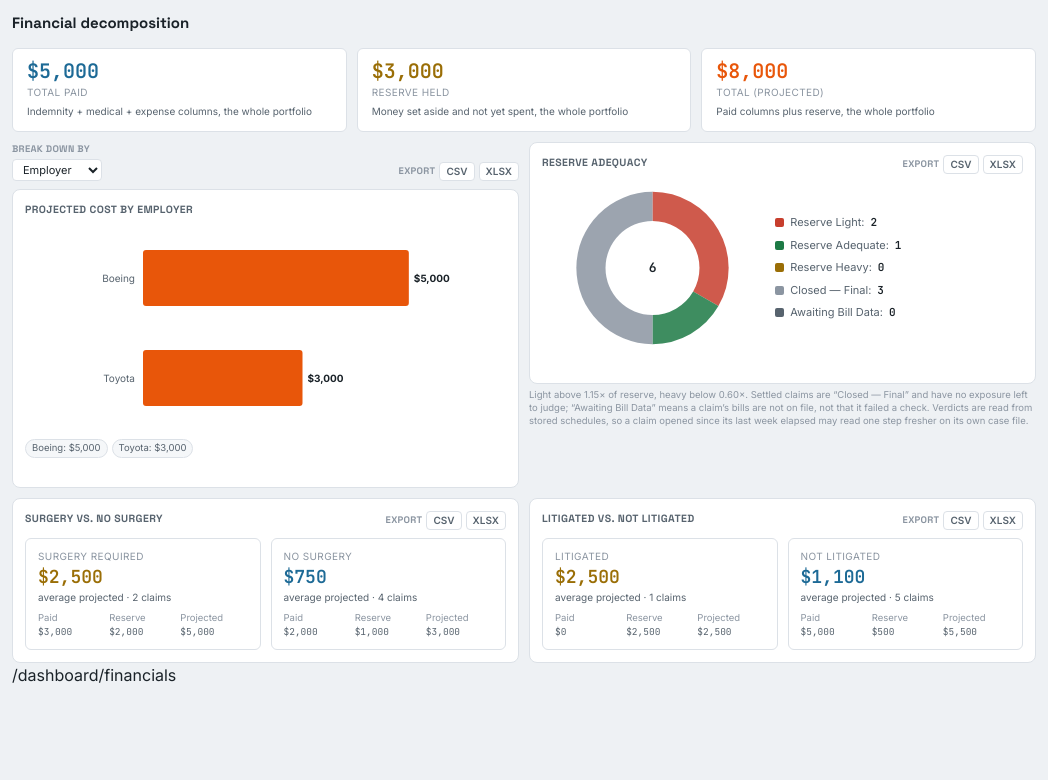
it: changing the grouping writes the URL and refetches rather than regrouping
The image size is (1048, 780).
Step 1. Select "ICD-10" in the dropdown with test id "financial-group-by" → (57, 170), box [12,159,102,181]
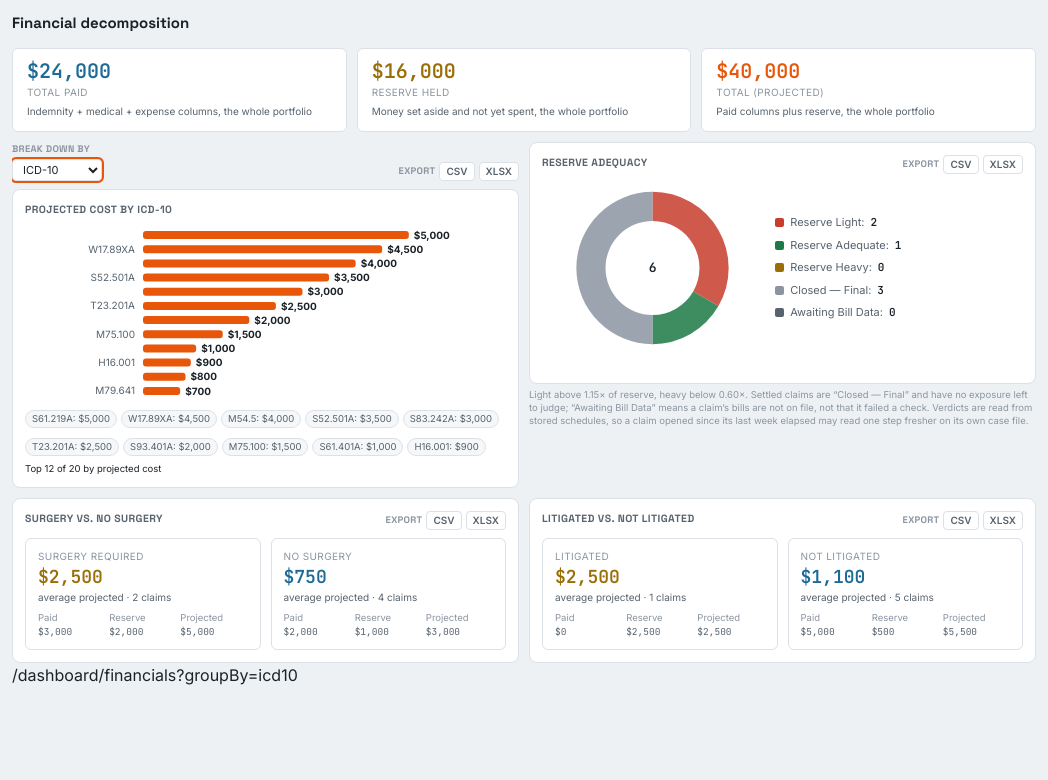
Result: the text with test id "location" reads "/dashboard/financials?groupBy=icd10" at [12,665,298,685]
Result: the text with test id "financial-breakdown-bars-truncation" reads "Top 12 of 20 by projected cost" at [25,462,161,474]
